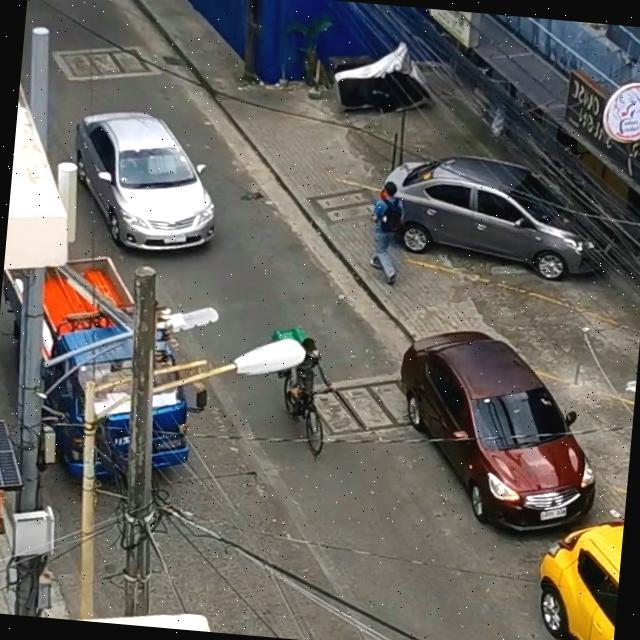Bike: (236, 302, 364, 480)
